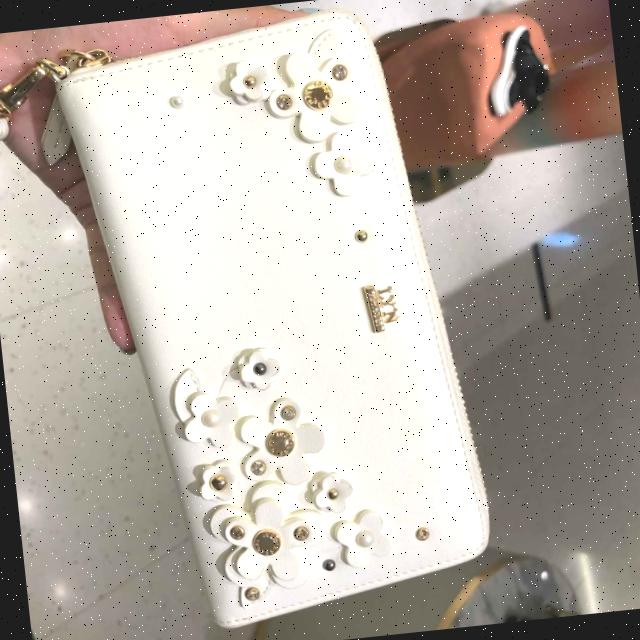Handbag: (49, 6, 498, 640)
